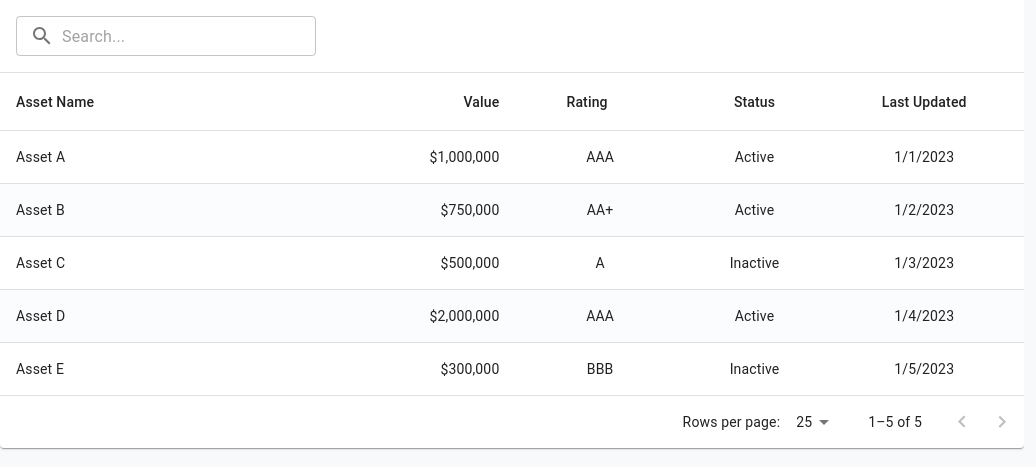
Test: DataTable Component › handles search functionality
In the field with placeholder "Search...": (189, 36) x1=62 y1=16 x2=316 y2=56, type "Asset A"
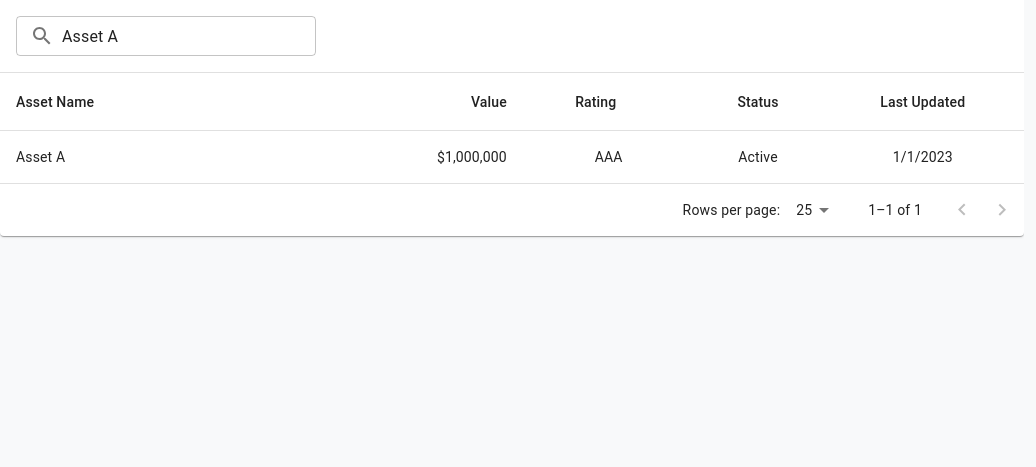
Expected: the text "Asset A" is shown, x1=0 y1=131 x2=346 y2=184
Now the text "Asset B" is gone
